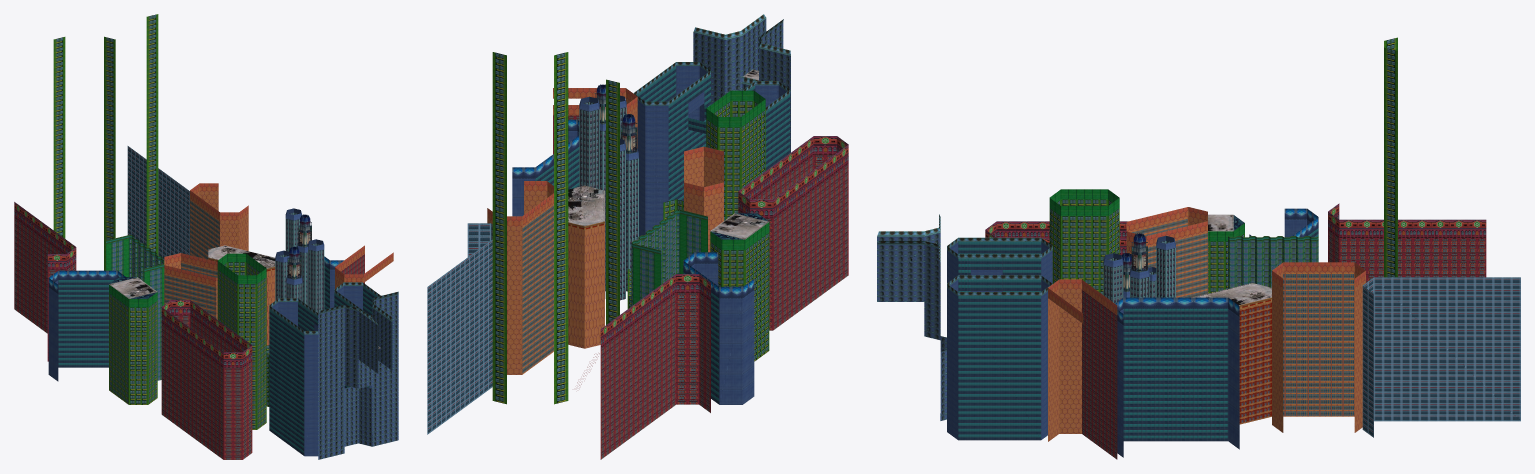
3 views of the same model, side by side, from view 1: azimuth 30°, elevation 25°; view 2: azimuth 150°, elevation 25°; view 3: azimuth 270°, elevation 25° (orthographic). The views are drawn at different scales.
Parts seen in each view (by area): view 1: s03_pn_06_0, s03_pn_06_22, s03_pn_06_1, s03_pn_06_9, s03_pn_06_7, s03_pn_06_20, s03_pn_06_21, s03_pn_06_12, s03_pn_06_11, s03_pn_06_8, s03_pn_06_14, s03_pn_06_3 (+5 smaller); view 2: s03_pn_06_22, s03_pn_06_0, s03_pn_06_7, s03_pn_06_20, s03_pn_06_3, s03_pn_06_9, s03_pn_06_21, s03_pn_06_12, s03_pn_06_1, s03_pn_06_8, s03_pn_06_14, s03_pn_06_11 (+7 smaller); view 3: s03_pn_06_9, s03_pn_06_20, s03_pn_06_12, s03_pn_06_22, s03_pn_06_0, s03_pn_06_3, s03_pn_06_7, s03_pn_06_1, s03_pn_06_21, s03_pn_06_11, s03_pn_06_4, s03_pn_06_2 (+7 smaller).
Boxes of the visible parts, box(x1,y1,x2,y2) form: s03_pn_06_0: box(53, 14, 269, 429); s03_pn_06_22: box(14, 217, 364, 459); s03_pn_06_1: box(318, 294, 398, 459); s03_pn_06_9: box(58, 266, 377, 455); s03_pn_06_7: box(48, 208, 372, 456); s03_pn_06_20: box(127, 146, 189, 259); s03_pn_06_21: box(14, 202, 252, 367); s03_pn_06_12: box(164, 199, 219, 318); s03_pn_06_11: box(164, 183, 393, 286); s03_pn_06_8: box(275, 212, 324, 313); s03_pn_06_14: box(106, 238, 266, 307); s03_pn_06_3: box(166, 192, 343, 345); s03_pn_06_22: box(553, 115, 848, 459); s03_pn_06_0: box(492, 52, 769, 404); s03_pn_06_7: box(512, 66, 786, 404); s03_pn_06_20: box(427, 223, 492, 434); s03_pn_06_3: box(487, 99, 723, 374); s03_pn_06_9: box(535, 66, 790, 404); s03_pn_06_21: box(600, 136, 848, 347); s03_pn_06_12: box(522, 204, 553, 374); s03_pn_06_1: box(693, 18, 790, 152); s03_pn_06_8: box(579, 100, 638, 300); s03_pn_06_14: box(633, 90, 769, 304); s03_pn_06_11: box(487, 88, 723, 226); s03_pn_06_9: box(958, 228, 1318, 441); s03_pn_06_20: box(1362, 277, 1520, 437); s03_pn_06_12: box(1128, 217, 1354, 416); s03_pn_06_22: box(1082, 229, 1486, 459); s03_pn_06_0: box(1049, 37, 1397, 294); s03_pn_06_3: box(1048, 217, 1365, 441); s03_pn_06_7: box(947, 219, 1310, 457); s03_pn_06_1: box(877, 232, 946, 420); s03_pn_06_21: box(985, 203, 1486, 255); s03_pn_06_11: box(1048, 207, 1365, 323); s03_pn_06_4: box(1239, 301, 1271, 424); s03_pn_06_2: box(877, 214, 1052, 295).
Bounding box in the file's own units: 3771 × 4130 × 7085.
